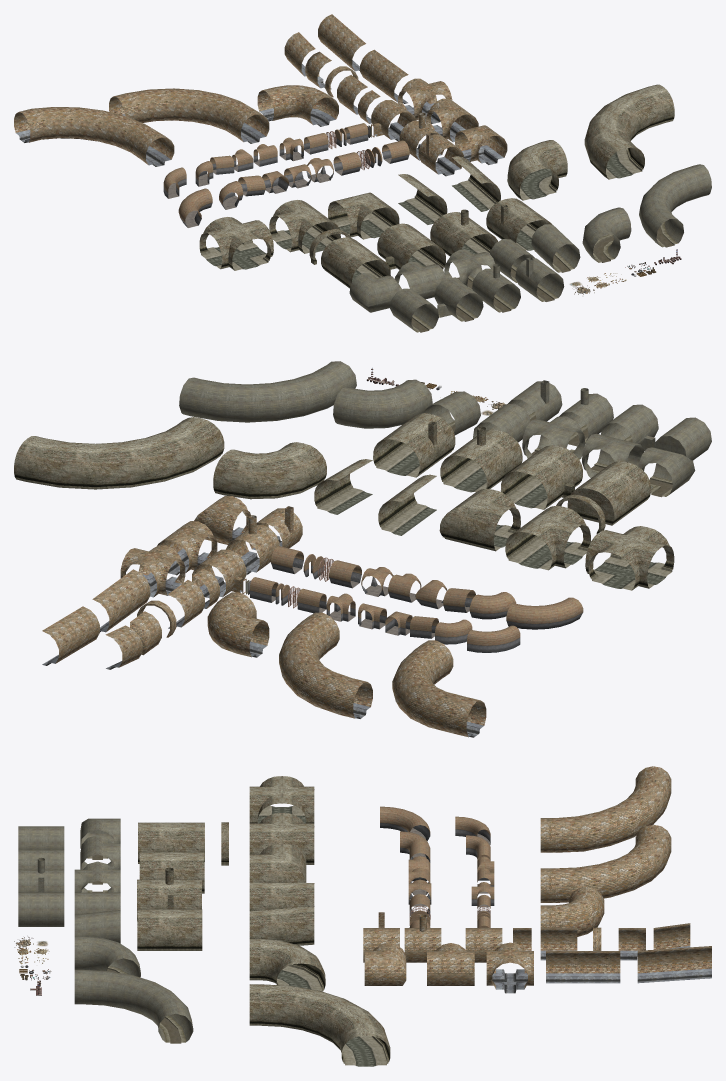
Rendered from Sewer2.glb.
3 views of the same model, one above another, from view 1: azimuth 30°, elevation 25°; view 2: azimuth 150°, elevation 25°; view 3: azimuth 270°, elevation 25° (orthographic). The views are drawn at different scales.
Parts seen in each view (by area): view 1: Serwers_015, Serwers01_011, Serwers_014, Serwers02_007, Serwers01_003, Serwers01_010, Serwers_013, Serwers01_002, Serwers01_005, Serwers01_004, Serwers01, Serwers01_006 (+29 smaller); view 2: Serwers01_011, Serwers02_007, Serwers_014, Serwers_015, Serwers01_010, Serwers01_003, Serwers01_002, Serwers01_008, Serwers01_004, Serwers01_006, Serwers02_006, Serwers01_005 (+37 smaller); view 3: Serwers01_011, Serwers_015, Serwers_014, Serwers02_007, Serwers01_010, Serwers01_008, Serwers_004, Serwers_003, Serwers01_003, Serwers01_009, Serwers01_002, Serwers01 (+26 smaller).
Boxes of the visible parts, bbox=[...] form: Serwers_015: bbox=[14, 107, 174, 166]; Serwers01_011: bbox=[584, 84, 674, 179]; Serwers_014: bbox=[109, 88, 269, 143]; Serwers02_007: bbox=[639, 164, 711, 247]; Serwers01_003: bbox=[199, 217, 273, 270]; Serwers01_010: bbox=[507, 140, 567, 200]; Serwers_013: bbox=[257, 85, 338, 126]; Serwers01_002: bbox=[269, 200, 340, 253]; Serwers01_005: bbox=[328, 192, 399, 239]; Serwers01_004: bbox=[377, 223, 445, 269]; Serwers01: bbox=[321, 237, 390, 288]; Serwers01_006: bbox=[430, 209, 497, 256]; Serwers01_011: bbox=[14, 417, 224, 489]; Serwers02_007: bbox=[179, 361, 356, 422]; Serwers_014: bbox=[279, 612, 372, 718]; Serwers_015: bbox=[392, 640, 486, 737]; Serwers01_010: bbox=[213, 442, 326, 499]; Serwers01_003: bbox=[585, 526, 674, 590]; Serwers01_002: bbox=[505, 505, 590, 570]; Serwers01_008: bbox=[373, 413, 455, 477]; Serwers01_004: bbox=[500, 445, 582, 509]; Serwers01_006: bbox=[440, 426, 522, 492]; Serwers02_006: bbox=[333, 379, 432, 428]; Serwers01_005: bbox=[439, 488, 520, 551]; Serwers01_011: bbox=[249, 984, 390, 1066]; Serwers_015: bbox=[540, 766, 671, 852]; Serwers_014: bbox=[540, 824, 671, 902]; Serwers02_007: bbox=[74, 969, 193, 1043]; Serwers01_010: bbox=[249, 938, 325, 991]; Serwers01_008: bbox=[137, 895, 202, 950]; Serwers_004: bbox=[637, 946, 711, 983]; Serwers_003: bbox=[546, 951, 620, 983]; Serwers01_003: bbox=[249, 776, 314, 823]; Serwers01_009: bbox=[249, 906, 314, 945]; Serwers01_002: bbox=[249, 813, 314, 864]; Serwers01: bbox=[138, 822, 204, 863].
Bounding box in the file's own units: 118 × 10.56 × 129.
23 materials, 23 textured.
